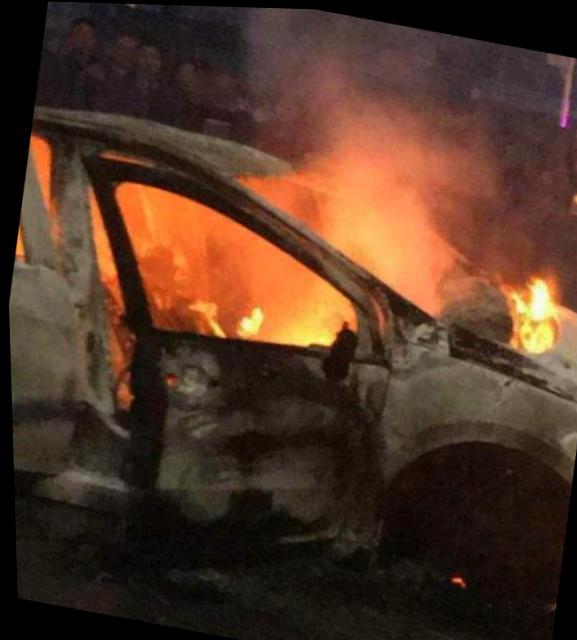fire: (51, 104, 575, 455)
